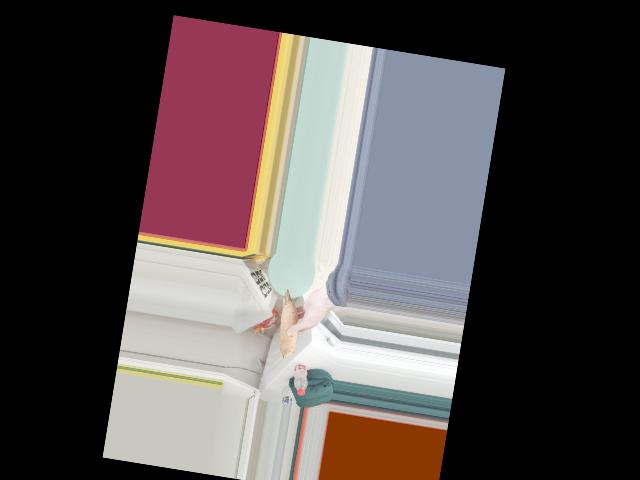sweet_potato: (275, 287, 304, 354)
